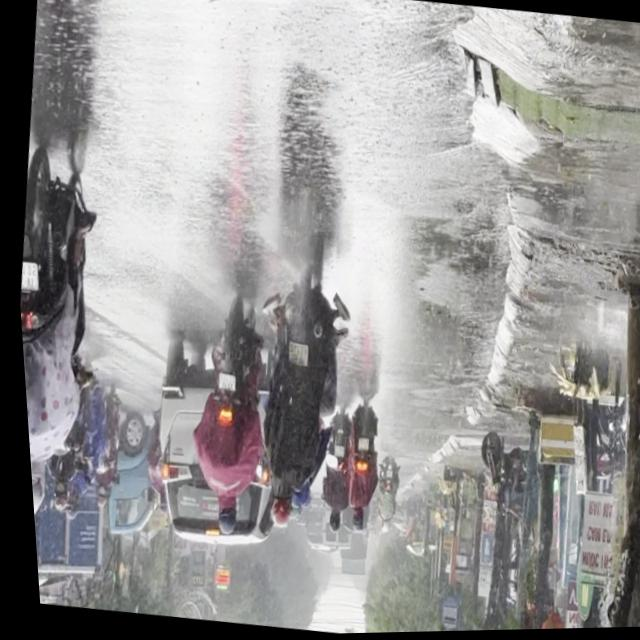helmet: (258, 491, 287, 531), (24, 457, 41, 521), (204, 498, 231, 538)
licenseplate: (7, 128, 122, 531), (230, 251, 363, 541), (167, 296, 278, 543)
nohelmet: (15, 263, 36, 292), (282, 344, 303, 366), (211, 373, 230, 393)
